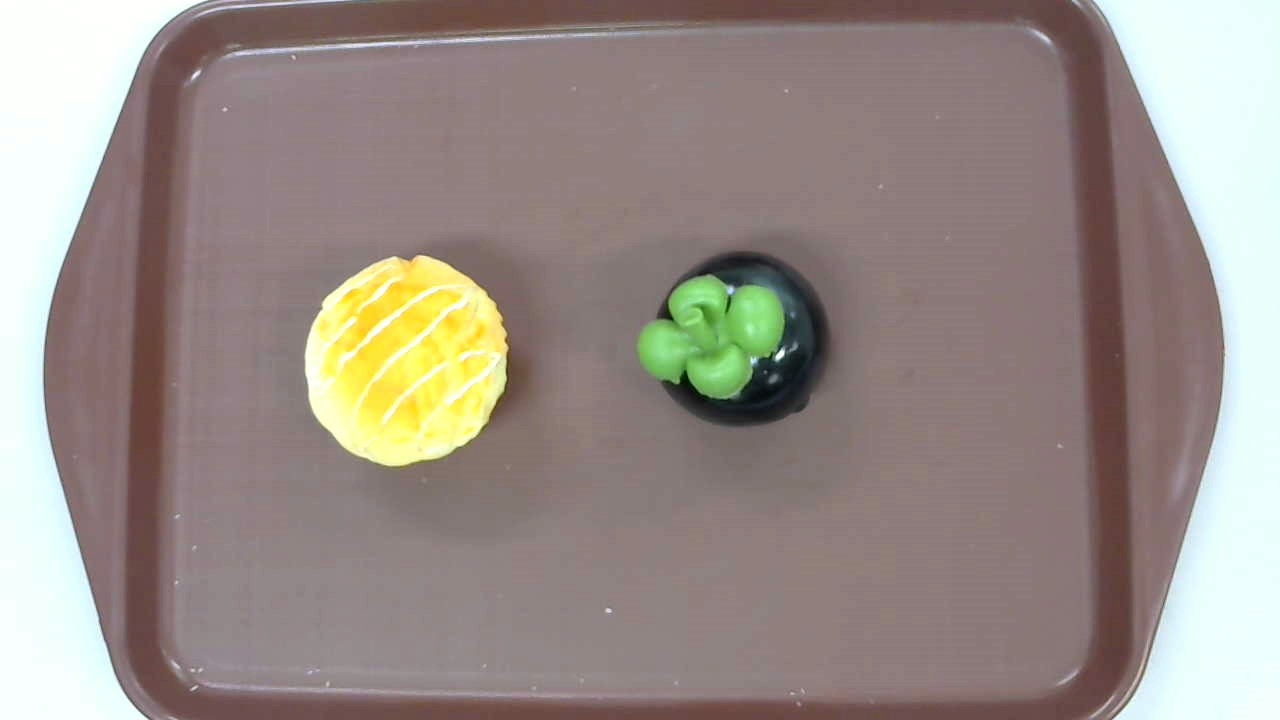cupcake: (302, 254, 509, 469)
mangosteen: (636, 250, 830, 428)
